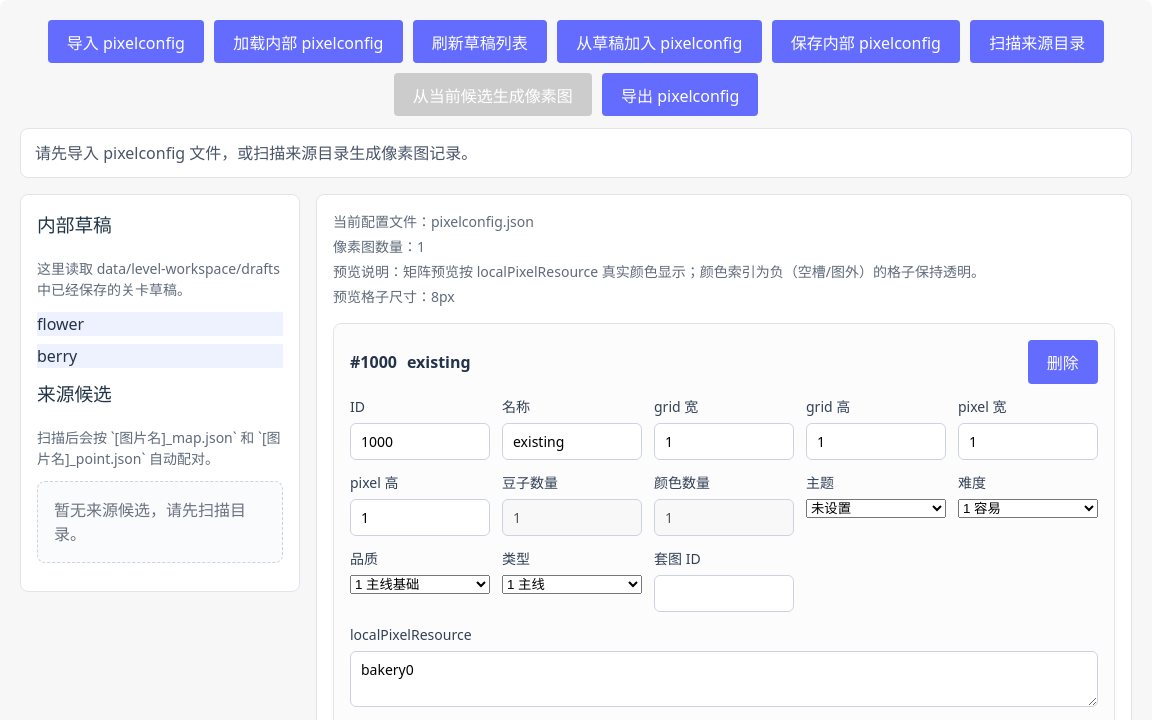
PixelConfigPage internal workspace management › imports multiple checked internal drafts and assigns safe ids
Click the button "从草稿加入 pixelconfig" at (659, 42), box [557, 20, 762, 63]
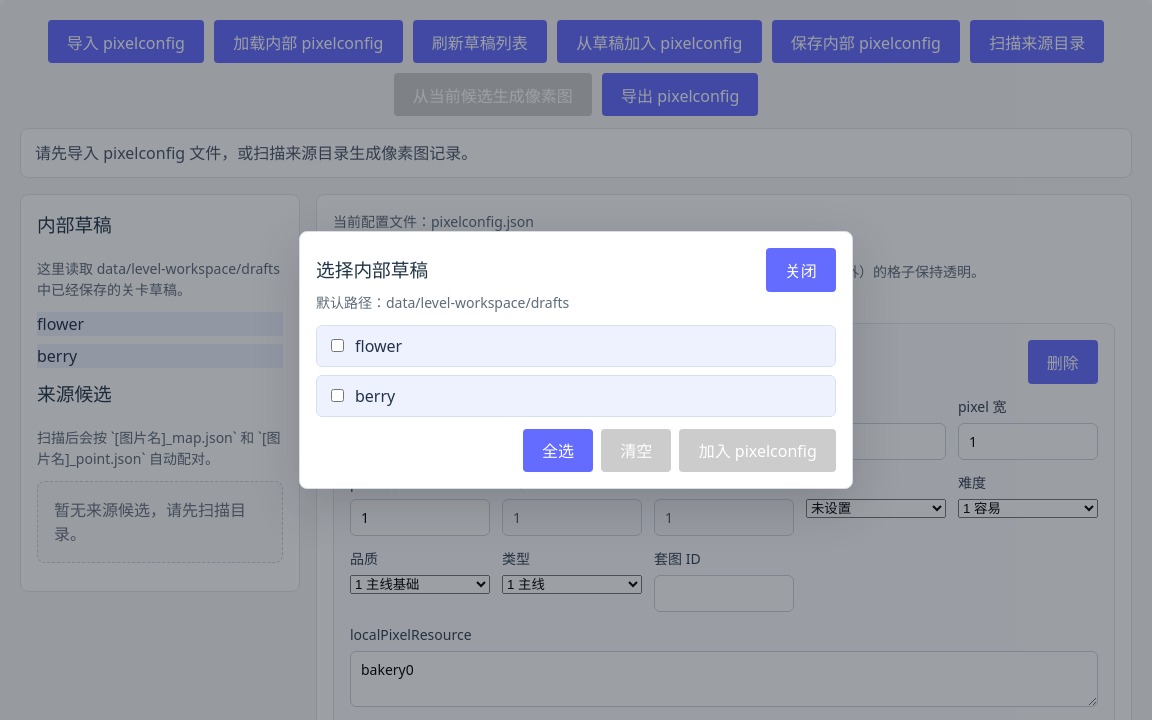
Click the checkbox labelled "flower" at (338, 346), box [331, 339, 344, 352]
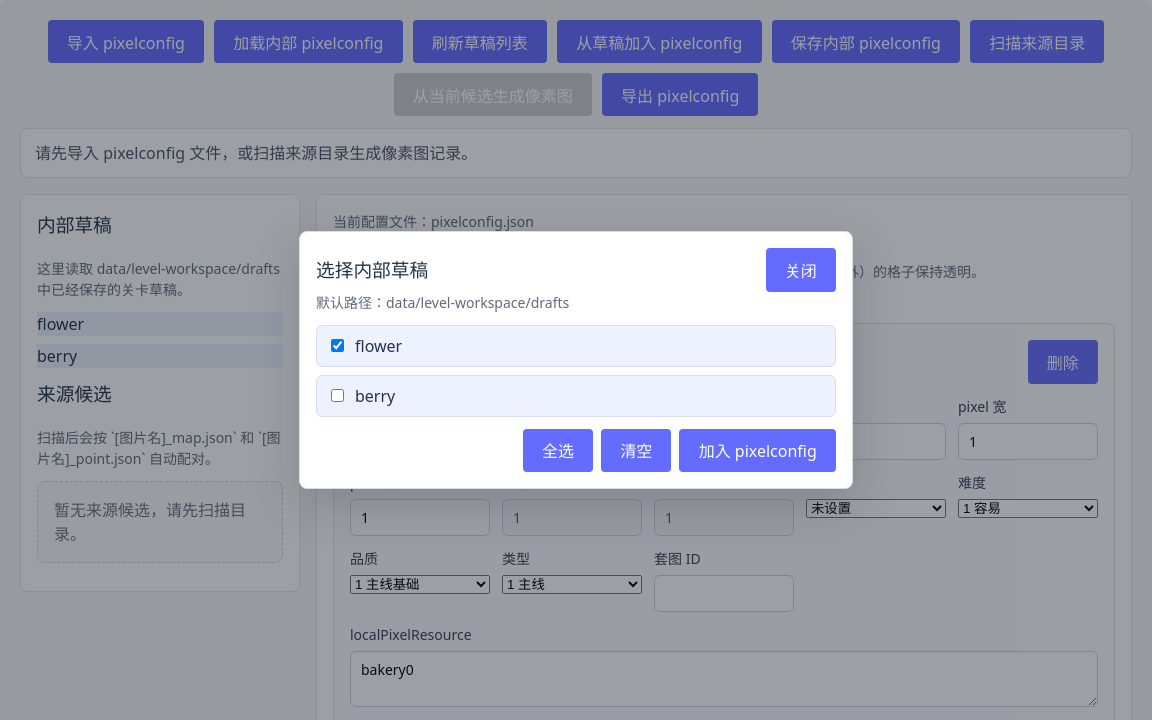
Click the checkbox labelled "berry" at (338, 396), box [331, 389, 344, 402]
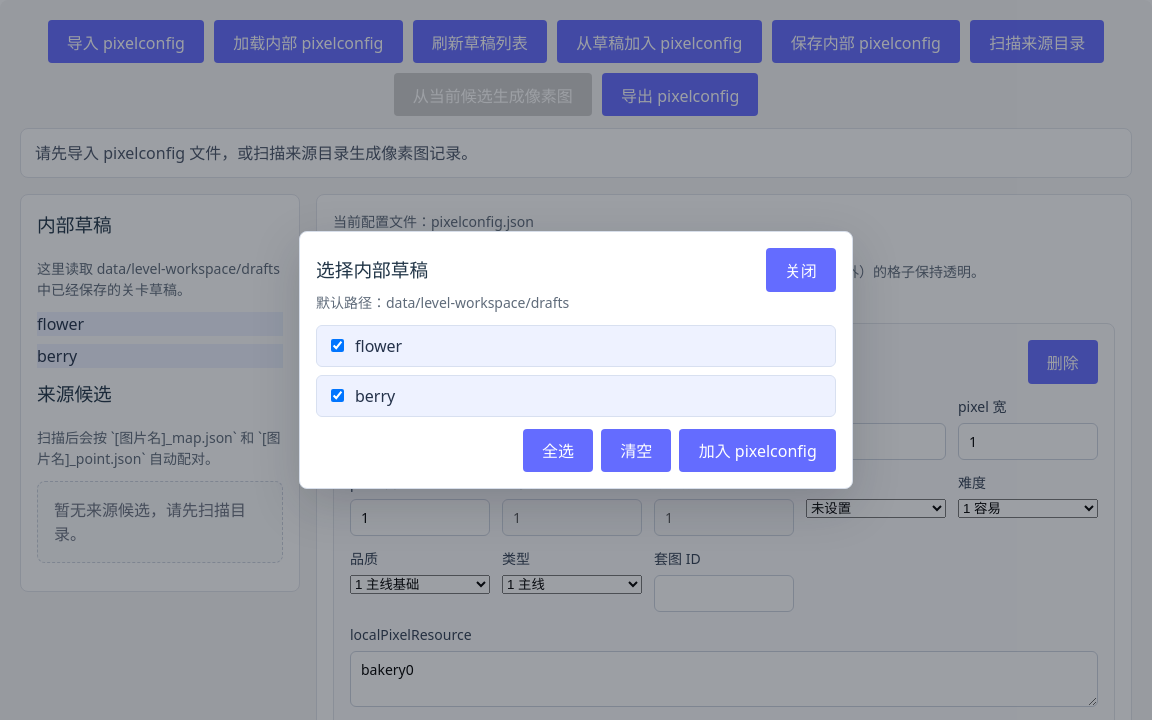
Click the button "加入 pixelconfig" at (758, 450), box [680, 428, 836, 472]
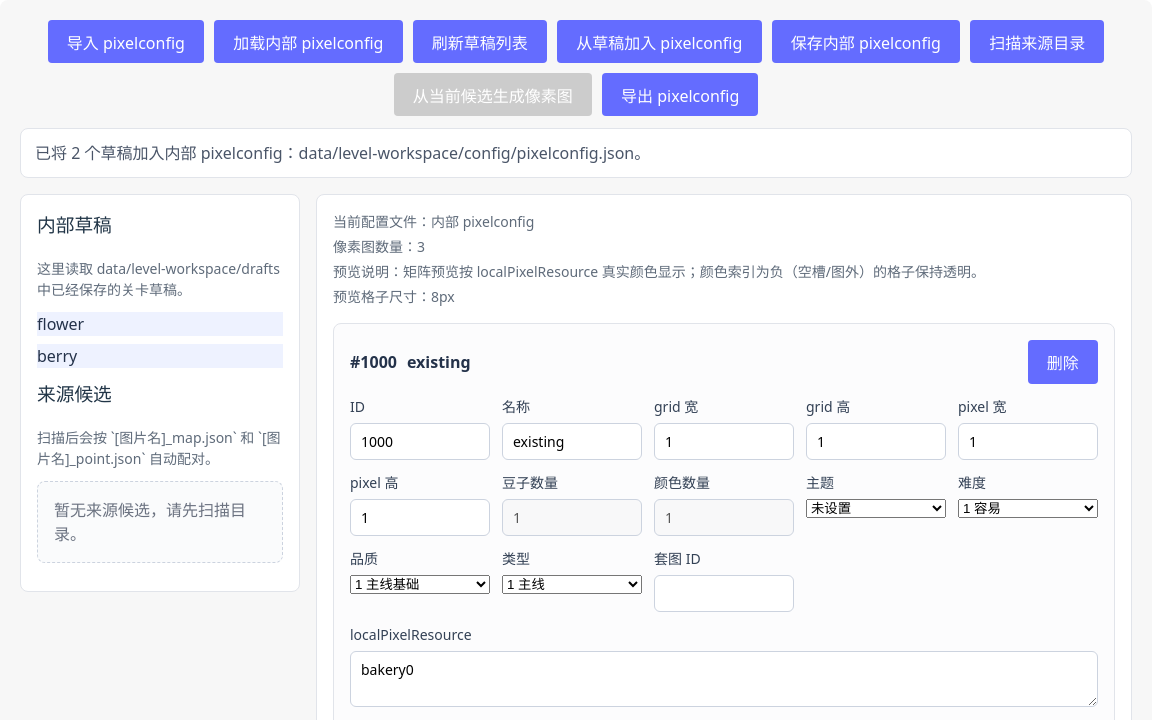
Now the text "data/level-workspace/config/pixelconfig.json" is shown, box [35, 142, 650, 164]
